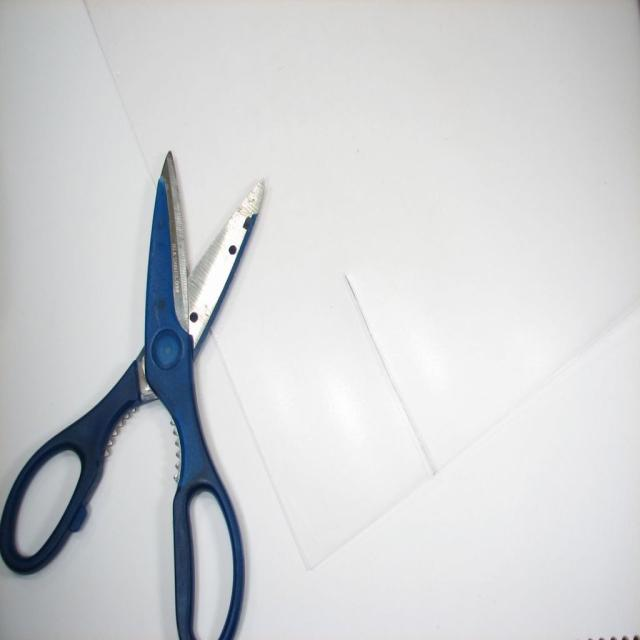scissors: (1, 150, 264, 638)
